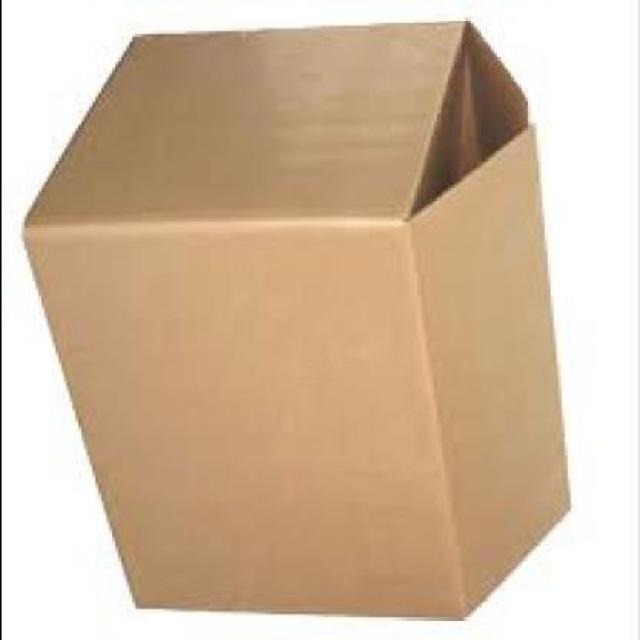CARDBOARD: (26, 18, 572, 612)
